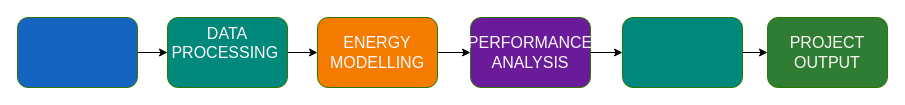
Image size: 905x105. Some labels were removed from this diagram. The centre of each missing label's shape, as x and y in pixels:
"DATA ACQUISITION" goes at point 77,52.
"VISUALIZATION & DASHBOARD" goes at point 682,52.
